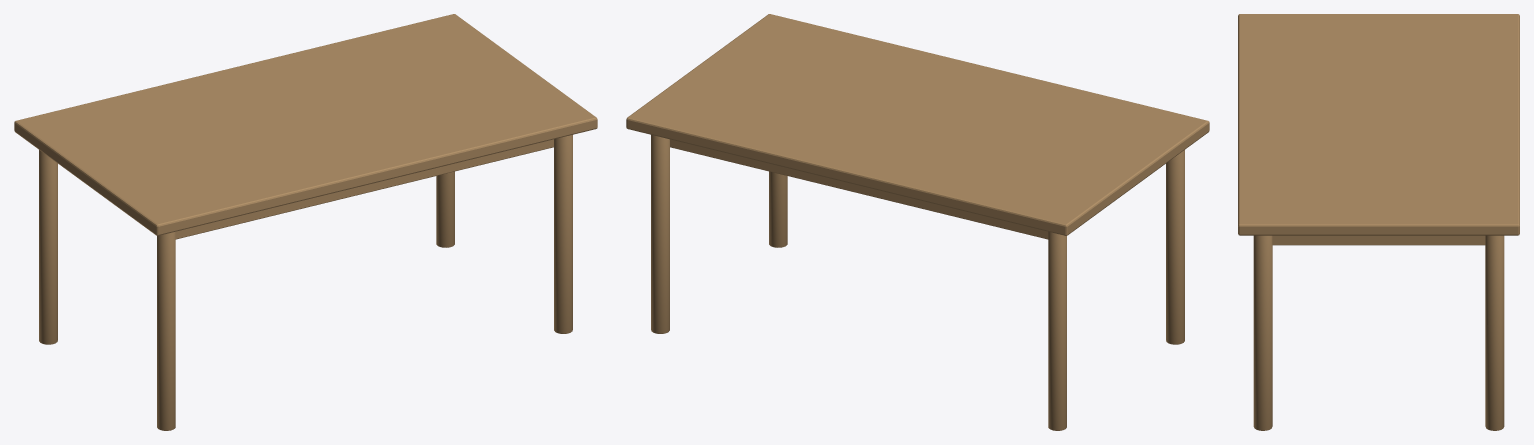
Rendered from esstisch.glb.
3 renders of one model, left to right at view 1: azimuth 30°, elevation 25°; view 2: azimuth 150°, elevation 25°; view 3: azimuth 270°, elevation 25°, orthographic.
Parts seen in each view (by area): view 1: Platte, Bein0, Bein1, Bein2, Zarge, Bein3; view 2: Platte, Bein2, Bein3, Bein0, Zarge, Bein1; view 3: Platte, Bein1, Bein3, Zarge.
Part boxes in pixels (x1,y1,x2,y2): Platte: [14, 14, 597, 235]; Bein0: [157, 231, 175, 430]; Bein1: [554, 135, 572, 333]; Bein2: [39, 150, 57, 344]; Zarge: [175, 139, 553, 239]; Bein3: [436, 171, 454, 247]; Platte: [626, 14, 1209, 235]; Bein2: [1048, 231, 1066, 430]; Bein3: [651, 135, 669, 333]; Bein0: [1166, 150, 1184, 344]; Zarge: [670, 139, 1048, 239]; Bein1: [769, 171, 787, 247]; Platte: [1238, 14, 1519, 235]; Bein1: [1253, 235, 1272, 430]; Bein3: [1485, 235, 1504, 430]; Zarge: [1272, 235, 1485, 245].
Bounding box in the file's own units: 1.6 × 0.75 × 0.9.
